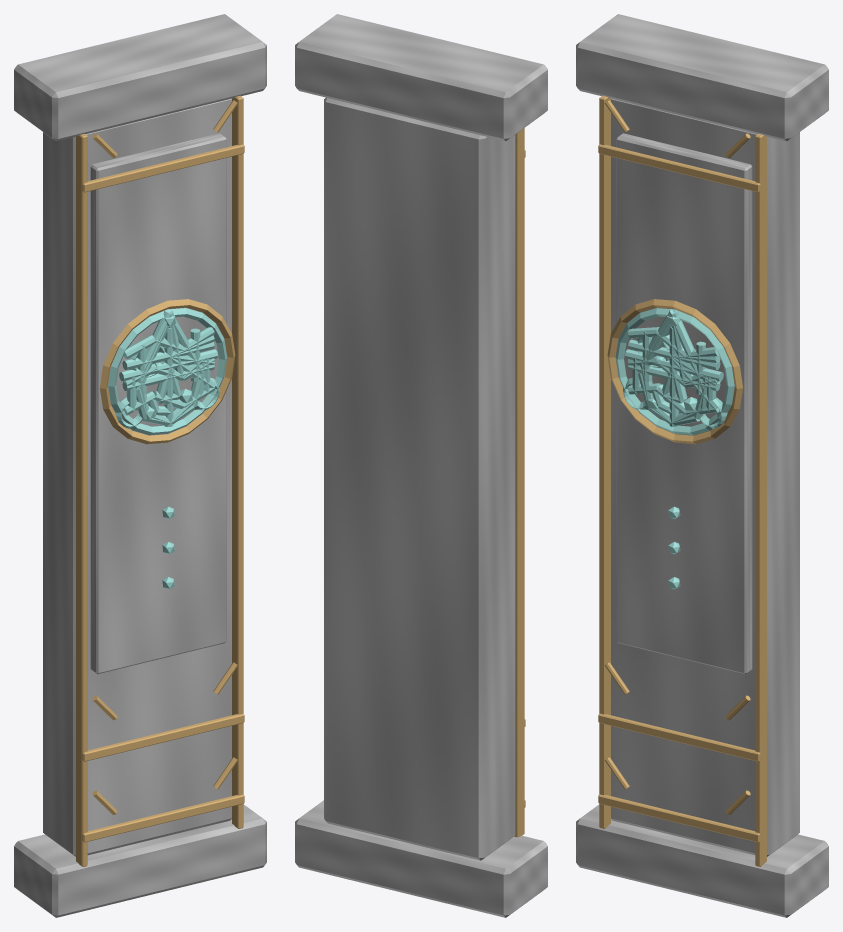
Rendered from interior-witness-v01.glb.
3 renders of one model, left to right at view 1: azimuth 30°, elevation 25°; view 2: azimuth 150°, elevation 25°; view 3: azimuth 330°, elevation 25°, orthographic.
Parts seen in each view (by area): view 1: witness-balance-stone, witness-balance-bronze, witness-balance-light, witness-sift-light, witness-strata-light, witness-fire-light, witness-water-light, witness-shadow-light; view 2: witness-balance-stone, witness-balance-bronze; view 3: witness-balance-stone, witness-balance-bronze, witness-balance-light, witness-sift-light, witness-strata-light, witness-fire-light, witness-water-light, witness-shadow-light.
Boxes of the visible parts, x1,y1,x2,y2 form: witness-balance-stone: (14,14,266,917); witness-balance-bronze: (76,95,244,866); witness-balance-light: (108,308,226,589); witness-sift-light: (122,312,214,419); witness-strata-light: (122,327,214,415); witness-fire-light: (137,310,205,423); witness-water-light: (136,319,202,425); witness-shadow-light: (129,335,215,387); witness-balance-stone: (295,14,547,917); witness-balance-bronze: (514,128,525,837); witness-balance-stone: (576,14,828,917); witness-balance-bronze: (598,95,766,866); witness-balance-light: (616,308,734,589); witness-sift-light: (628,312,720,410); witness-strata-light: (628,327,720,414); witness-fire-light: (640,309,706,423); witness-water-light: (638,320,703,425); witness-shadow-light: (636,337,720,409).
Bounding box in the file's own units: 0.64 × 2.35 × 0.2737.
3 materials, 1 textured.
